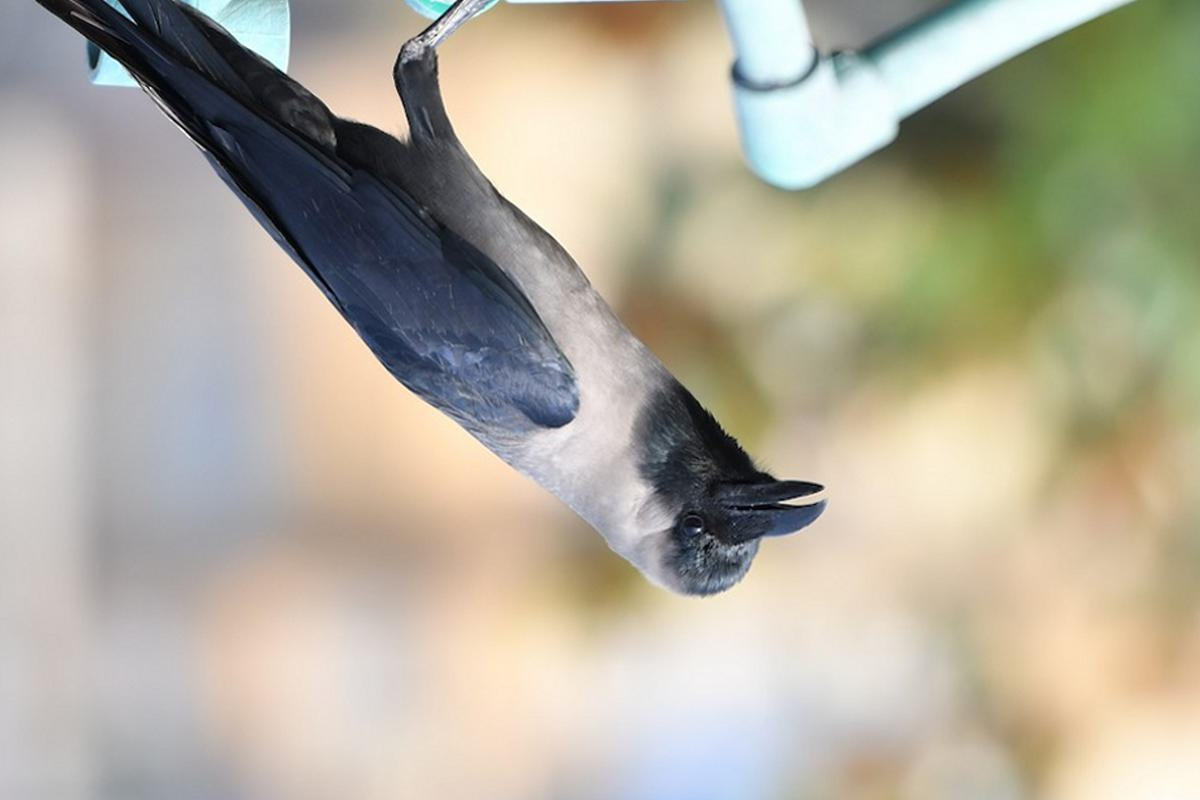crow: (66, 1, 833, 601)
